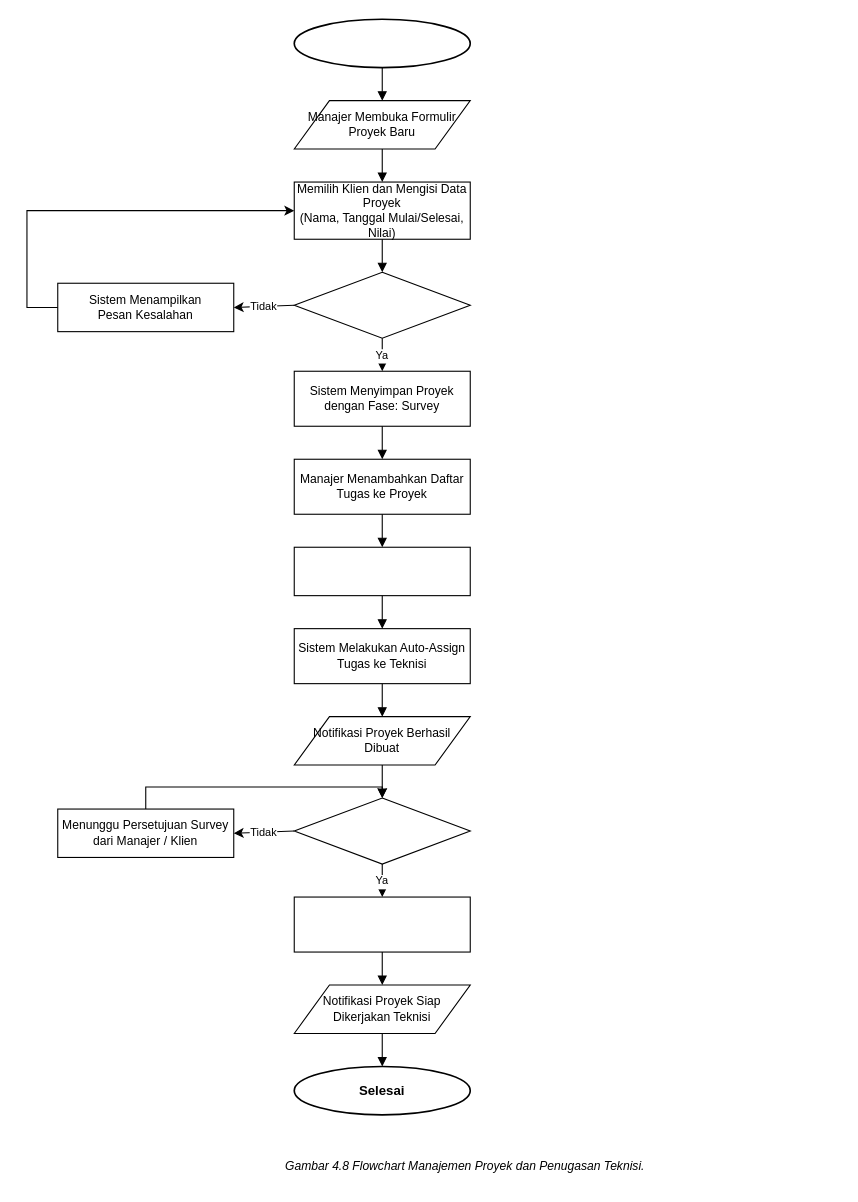
The diagram is 858 pixels wide and 1202 high, and some of its shapes have lost their labels. Each missing label, with the centre of its shape:
"Data Proyek Valid?" belongs at pixel 381 304.
"Manajer Menetapkan Teknisi ke Proyek" belongs at pixel 381 571.
"Mulai" belongs at pixel 382 43.
"Sistem Mengubah Fase Proyek menjadi Eksekusi" belongs at pixel 381 924.
"Survey Klien Disetujui?" belongs at pixel 381 830.
